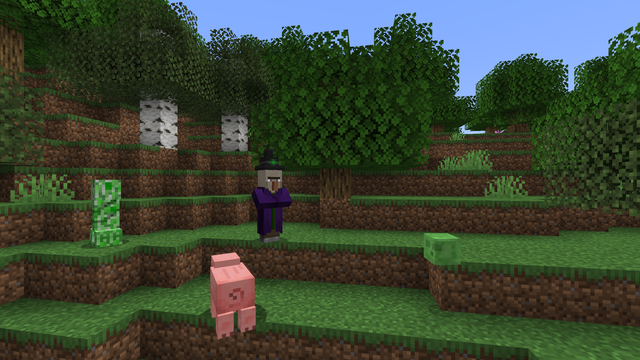cochons: (194, 262, 262, 334)
creepers: (83, 176, 126, 246)
slimes: (424, 231, 459, 264)
sorcieres: (254, 166, 283, 243)
